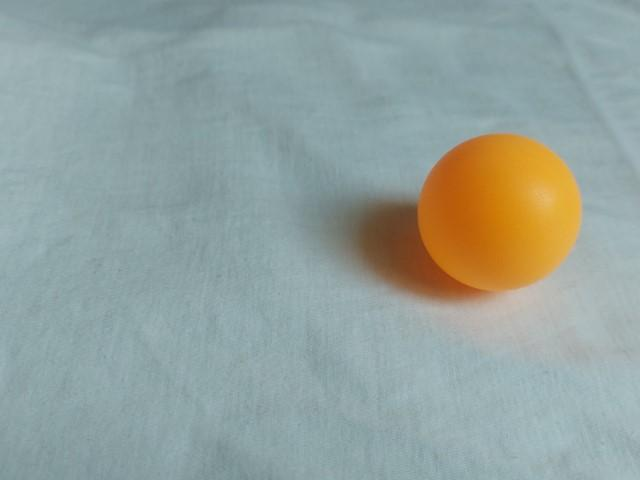oball: (408, 124, 593, 301)
